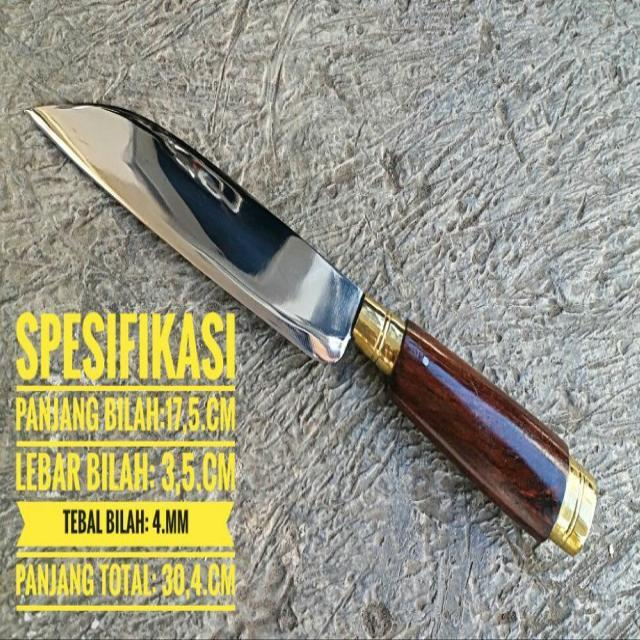Pisau: (7, 87, 604, 562)
